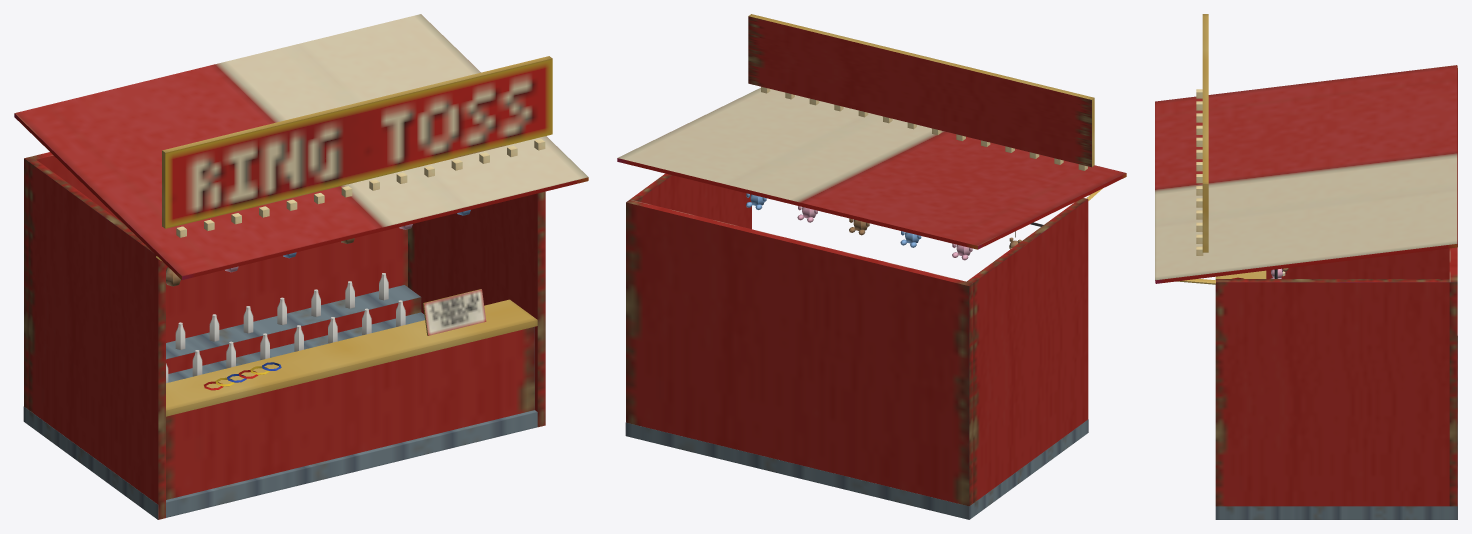
File: booth_ring_toss.obj
3 views of the same model, side by side, from view 1: azimuth 30°, elevation 25°; view 2: azimuth 150°, elevation 25°; view 3: azimuth 270°, elevation 25° (orthographic). The views are drawn at different scales.
Visible parts, largest first — view 1: booth_ring_toss_roof, booth_ring_toss_counter, booth_ring_toss_side_l, booth_ring_toss_back, booth_ring_toss_side_r, booth_ring_toss_stock, booth_ring_toss, booth_ring_toss_bulbs; view 2: booth_ring_toss_back, booth_ring_toss_roof, booth_ring_toss_side_l, booth_ring_toss, booth_ring_toss_side_r, booth_ring_toss_prizes, booth_ring_toss_bulbs; view 3: booth_ring_toss_roof, booth_ring_toss_side_r, booth_ring_toss, booth_ring_toss_side_l, booth_ring_toss_back, booth_ring_toss_bulbs.
Part boxes in pixels (x1=…): booth_ring_toss_roof: x1=14, y1=14, x2=588, y2=279; booth_ring_toss_counter: x1=166, y1=289, x2=537, y2=499; booth_ring_toss_side_l: x1=28, y1=160, x2=165, y2=519; booth_ring_toss_back: x1=24, y1=152, x2=407, y2=409; booth_ring_toss_side_r: x1=408, y1=191, x2=545, y2=427; booth_ring_toss_stock: x1=166, y1=273, x2=424, y2=390; booth_ring_toss: x1=23, y1=406, x2=537, y2=519; booth_ring_toss_bulbs: x1=176, y1=139, x2=545, y2=237; booth_ring_toss_back: x1=626, y1=199, x2=973, y2=506; booth_ring_toss_roof: x1=617, y1=14, x2=1126, y2=249; booth_ring_toss_side_l: x1=967, y1=198, x2=1088, y2=502; booth_ring_toss: x1=625, y1=419, x2=1088, y2=519; booth_ring_toss_side_r: x1=630, y1=173, x2=751, y2=229; booth_ring_toss_prizes: x1=746, y1=193, x2=1043, y2=260; booth_ring_toss_bulbs: x1=761, y1=86, x2=1087, y2=170; booth_ring_toss_roof: x1=1155, y1=14, x2=1457, y2=284; booth_ring_toss_side_r: x1=1215, y1=279, x2=1449, y2=506; booth_ring_toss: x1=1215, y1=336, x2=1457, y2=519; booth_ring_toss_side_l: x1=1266, y1=248, x2=1449, y2=278; booth_ring_toss_back: x1=1449, y1=247, x2=1457, y2=506; booth_ring_toss_bulbs: x1=1196, y1=89, x2=1203, y2=255.
Size of the model in its own units: 4.2 by 3.67 by 3.01.
1 material, 1 textured.
